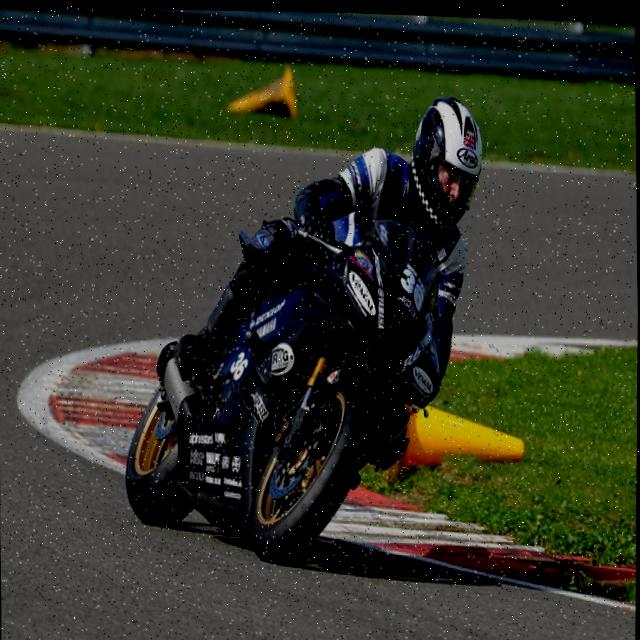motorcycle: (99, 142, 488, 586)
